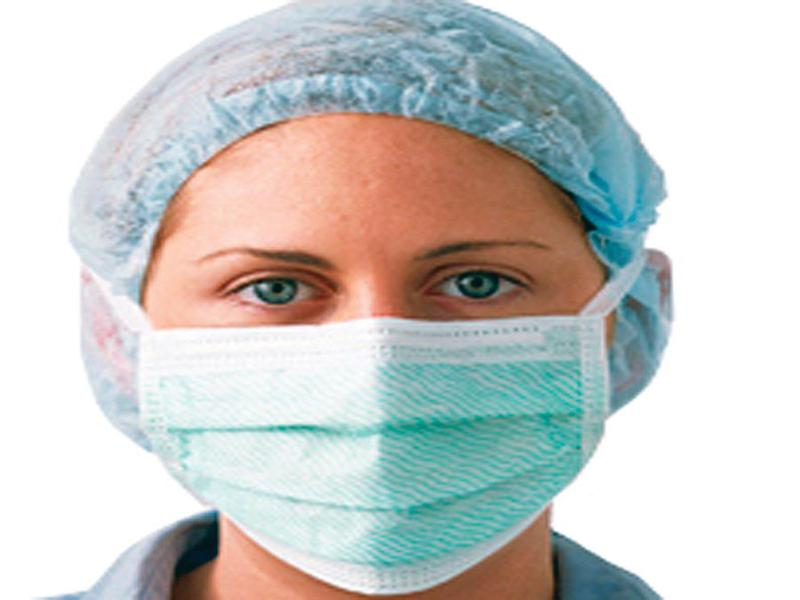with_mask: (135, 115, 614, 600)
